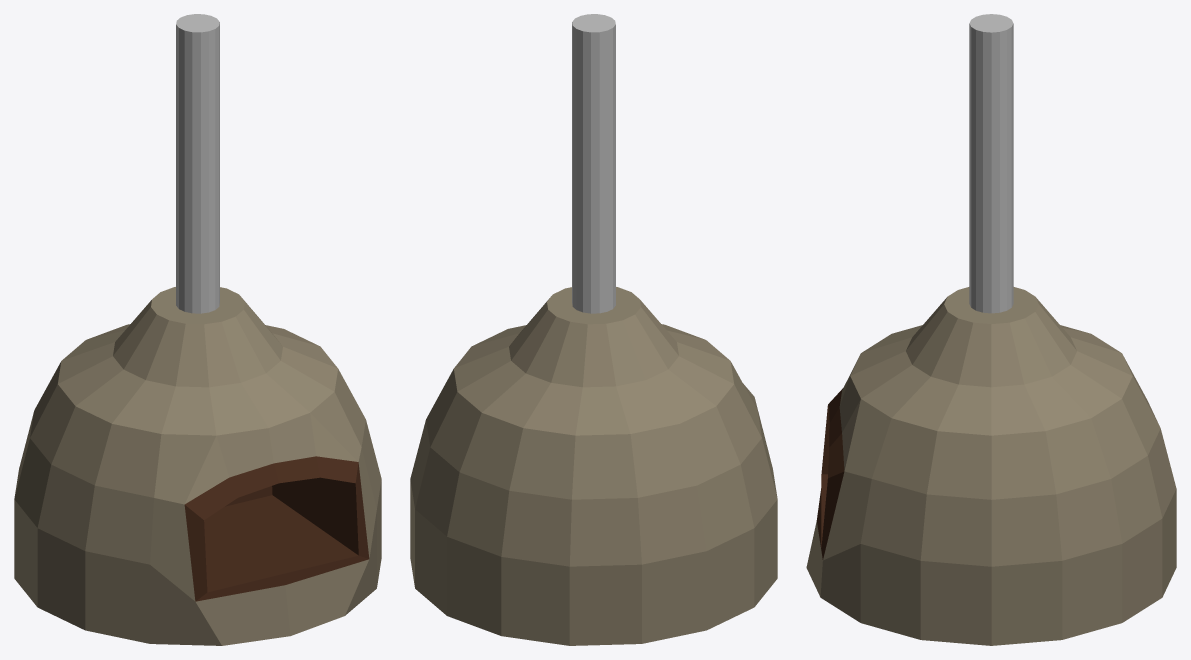
The model's file is Pizza_Oven.fbx.
3 renders of one model, left to right at view 1: azimuth 30°, elevation 25°; view 2: azimuth 150°, elevation 25°; view 3: azimuth 270°, elevation 25°, orthographic.
Visible parts, largest first — view 1: Pizza Oven; view 2: Pizza Oven; view 3: Pizza Oven.
Part boxes in pixels (bbox=[...]): Pizza Oven: bbox=[14, 14, 381, 645]; Pizza Oven: bbox=[410, 14, 777, 645]; Pizza Oven: bbox=[806, 14, 1176, 645].
Size of the model in its own units: 502 by 815 by 502.
